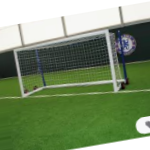goals: (10, 27, 127, 97)
